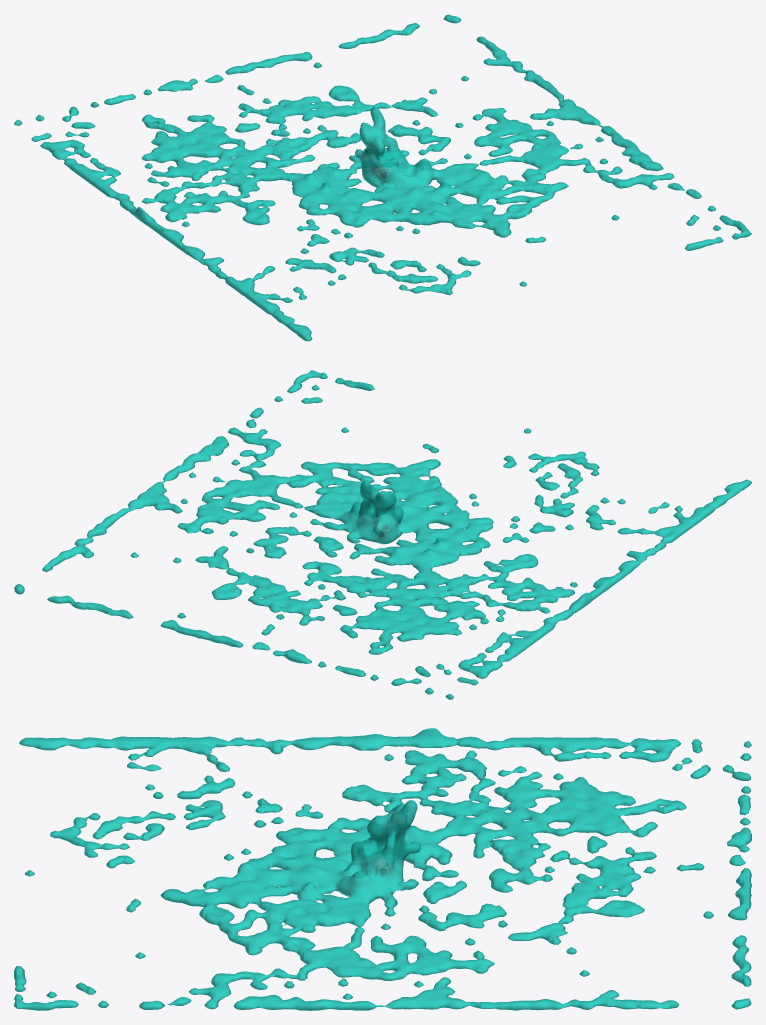
3 views of the same model, one above another, from view 1: azimuth 30°, elevation 25°; view 2: azimuth 150°, elevation 25°; view 3: azimuth 270°, elevation 25° (orthographic). The views are drawn at different scales.
Visible parts, largest first — view 1: Liquid_Domain; view 2: Liquid_Domain; view 3: Liquid_Domain.
Part boxes in pixels (box(x1,y1,x2,y2)): Liquid_Domain: box(14, 14, 751, 341); Liquid_Domain: box(14, 370, 751, 699); Liquid_Domain: box(14, 728, 751, 1010).
Size of the model in its own units: 12.44 by 1.75 by 14.41.
